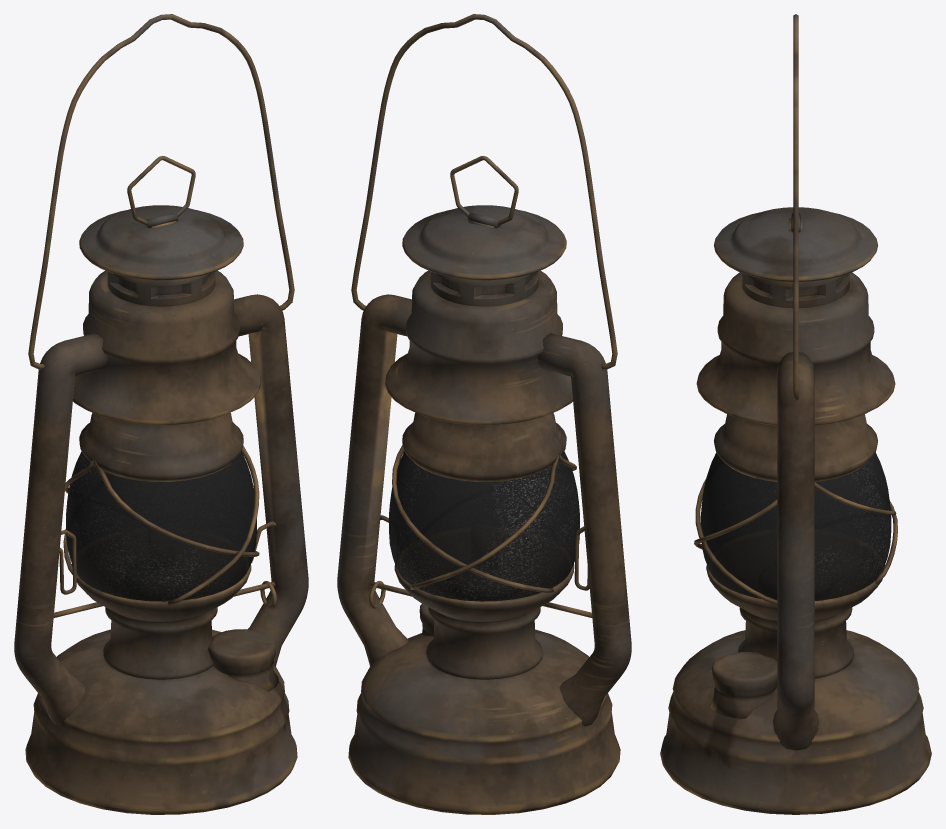
The model's file is hurricane-lantern_final.glb.
The picture shows the model from 3 angles, left to right: view 1: azimuth 30°, elevation 25°; view 2: azimuth 150°, elevation 25°; view 3: azimuth 270°, elevation 25°; orthographic projection.
Parts seen in each view (by area): view 1: SM_HurricaneLantern_Tank, SM_HurricaneLantern_Chimney, SM_HurricaneLantern_Globe, SM_HurricaneLantern_Tube_L, SM_HurricaneLantern_Tube_R, SM_HurricaneLantern_Cap, SM_HurricaneLantern_Burner, SM_HurricaneLantern_Bail, SM_HurricaneLantern_FillerCap, SM_HurricaneLantern_VentBand, SM_HurricaneLantern_Guard, SM_HurricaneLantern_TopLoop (+1 smaller); view 2: SM_HurricaneLantern_Tank, SM_HurricaneLantern_Chimney, SM_HurricaneLantern_Globe, SM_HurricaneLantern_Tube_L, SM_HurricaneLantern_Tube_R, SM_HurricaneLantern_Cap, SM_HurricaneLantern_Burner, SM_HurricaneLantern_Bail, SM_HurricaneLantern_VentBand, SM_HurricaneLantern_Guard, SM_HurricaneLantern_TopLoop; view 3: SM_HurricaneLantern_Tank, SM_HurricaneLantern_Chimney, SM_HurricaneLantern_Globe, SM_HurricaneLantern_Tube_R, SM_HurricaneLantern_Cap, SM_HurricaneLantern_Burner, SM_HurricaneLantern_FillerCap, SM_HurricaneLantern_VentBand, SM_HurricaneLantern_Bail, SM_HurricaneLantern_Guard.
Boxes of the visible parts, x1,y1,x2,y2 form: SM_HurricaneLantern_Tank: [25, 629, 297, 814]; SM_HurricaneLantern_Chimney: [73, 270, 260, 481]; SM_HurricaneLantern_Globe: [66, 451, 256, 601]; SM_HurricaneLantern_Tube_L: [14, 333, 107, 726]; SM_HurricaneLantern_Tube_R: [234, 294, 308, 666]; SM_HurricaneLantern_Cap: [79, 205, 243, 280]; SM_HurricaneLantern_Burner: [71, 564, 251, 679]; SM_HurricaneLantern_Bail: [28, 14, 294, 369]; SM_HurricaneLantern_FillerCap: [208, 629, 278, 691]; SM_HurricaneLantern_VentBand: [107, 271, 215, 306]; SM_HurricaneLantern_Guard: [63, 445, 259, 605]; SM_HurricaneLantern_TopLoop: [127, 156, 195, 225]; SM_HurricaneLantern_Tank: [348, 629, 620, 814]; SM_HurricaneLantern_Chimney: [385, 270, 572, 481]; SM_HurricaneLantern_Globe: [389, 451, 579, 601]; SM_HurricaneLantern_Tube_L: [538, 333, 631, 726]; SM_HurricaneLantern_Tube_R: [337, 294, 411, 666]; SM_HurricaneLantern_Cap: [402, 205, 566, 280]; SM_HurricaneLantern_Burner: [394, 564, 574, 679]; SM_HurricaneLantern_Bail: [351, 14, 617, 369]; SM_HurricaneLantern_VentBand: [430, 271, 538, 306]; SM_HurricaneLantern_Guard: [392, 425, 576, 592]; SM_HurricaneLantern_TopLoop: [450, 156, 518, 225]; SM_HurricaneLantern_Tank: [660, 630, 931, 814]; SM_HurricaneLantern_Chimney: [696, 272, 895, 481]; SM_HurricaneLantern_Globe: [700, 453, 891, 600]; SM_HurricaneLantern_Tube_R: [773, 352, 818, 750]; SM_HurricaneLantern_Cap: [714, 207, 877, 281]; SM_HurricaneLantern_Burner: [706, 565, 884, 678]; SM_HurricaneLantern_FillerCap: [710, 651, 777, 718]; SM_HurricaneLantern_VentBand: [742, 273, 849, 308]; SM_HurricaneLantern_Bail: [793, 14, 798, 400]; SM_HurricaneLantern_Guard: [694, 479, 897, 604].
Bounding box in the file's own units: 0.1217 × 0.2995 × 0.0992.
4 materials, 4 textured.
